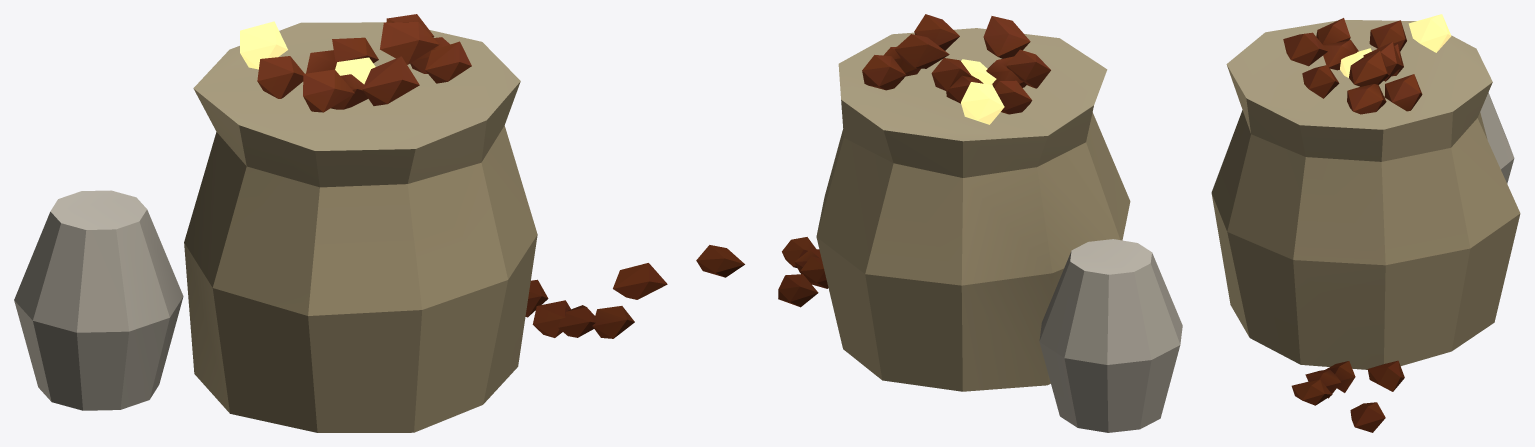
3 renders of one model, left to right at view 1: azimuth 30°, elevation 25°; view 2: azimuth 150°, elevation 25°; view 3: azimuth 270°, elevation 25°, orthographic. The views are drawn at different scales.
Visible parts, largest first — view 1: base; view 2: base; view 3: base.
Part boxes in pixels (x1,y1,x2,y2): base: (14, 14, 667, 432); base: (696, 14, 1182, 432); base: (1211, 14, 1520, 432).
Bounding box in the file's own units: 0.5608 × 0.3069 × 0.3027.
